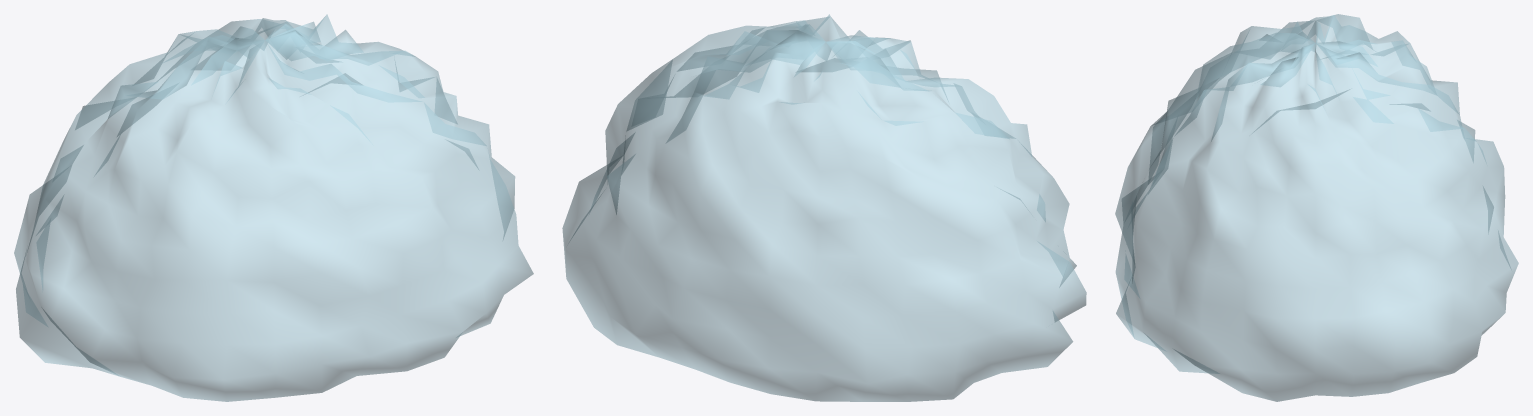
File: alpine-and-arctic-biomes-small-iceberg-34121e35__21048.glb
3 views of the same model, side by side, from view 1: azimuth 30°, elevation 25°; view 2: azimuth 150°, elevation 25°; view 3: azimuth 270°, elevation 25° (orthographic). The views are drawn at different scales.
Parts seen in each view (by area): view 1: small-iceberg; view 2: small-iceberg; view 3: small-iceberg.
Part boxes in pixels (x1,y1,x2,y2): small-iceberg: (14, 14, 533, 401); small-iceberg: (562, 14, 1086, 401); small-iceberg: (1115, 14, 1518, 401).
Size of the model in its own units: 5.16 by 2.87 by 3.98.
